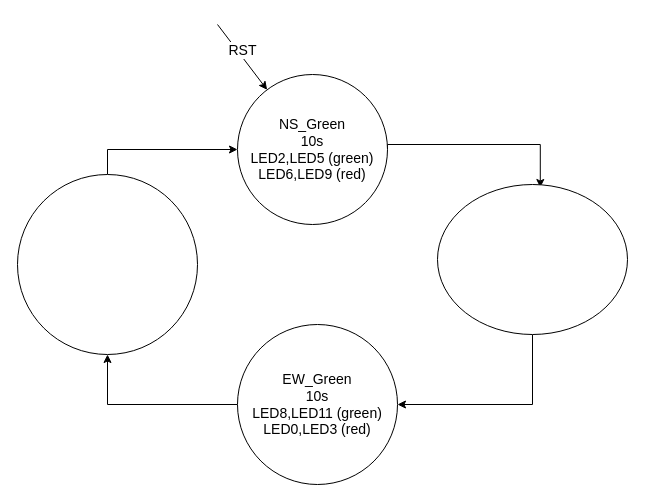
The diagram is 645 pixels wide and 502 high, and some of its shapes have lost their labels. The shapes that lost their labels are listed below. From the top down, each one's centre as x and y in pixels, then its label:
At (x=107, y=264): "EW_Yellow 3s LED7,LED10 (yellow) LED0,LED3 (red)".
At (x=532, y=259): "NS_Yellow 3s LED1,LED4 (yellow) LED6,LED9 (red)".
